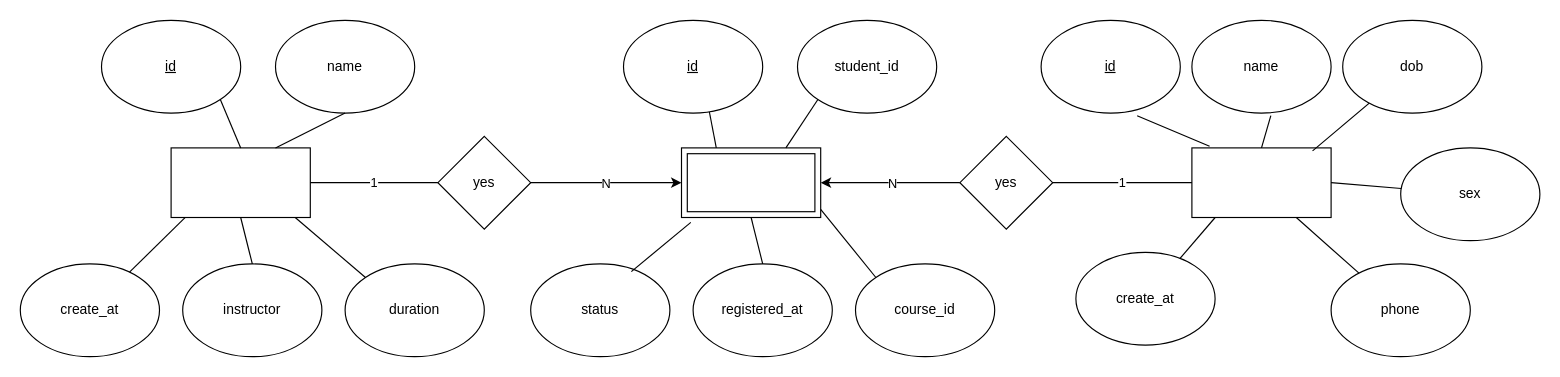
The diagram is 1560 pixels wide and 377 high, and some of its shapes have lost their labels. Here are the shapes that lost their labels. From the top down, the centre of each, then its label:
At pixel 240 182: "course".
At pixel 750 182: "enrollment".
At pixel 1261 182: "student".
